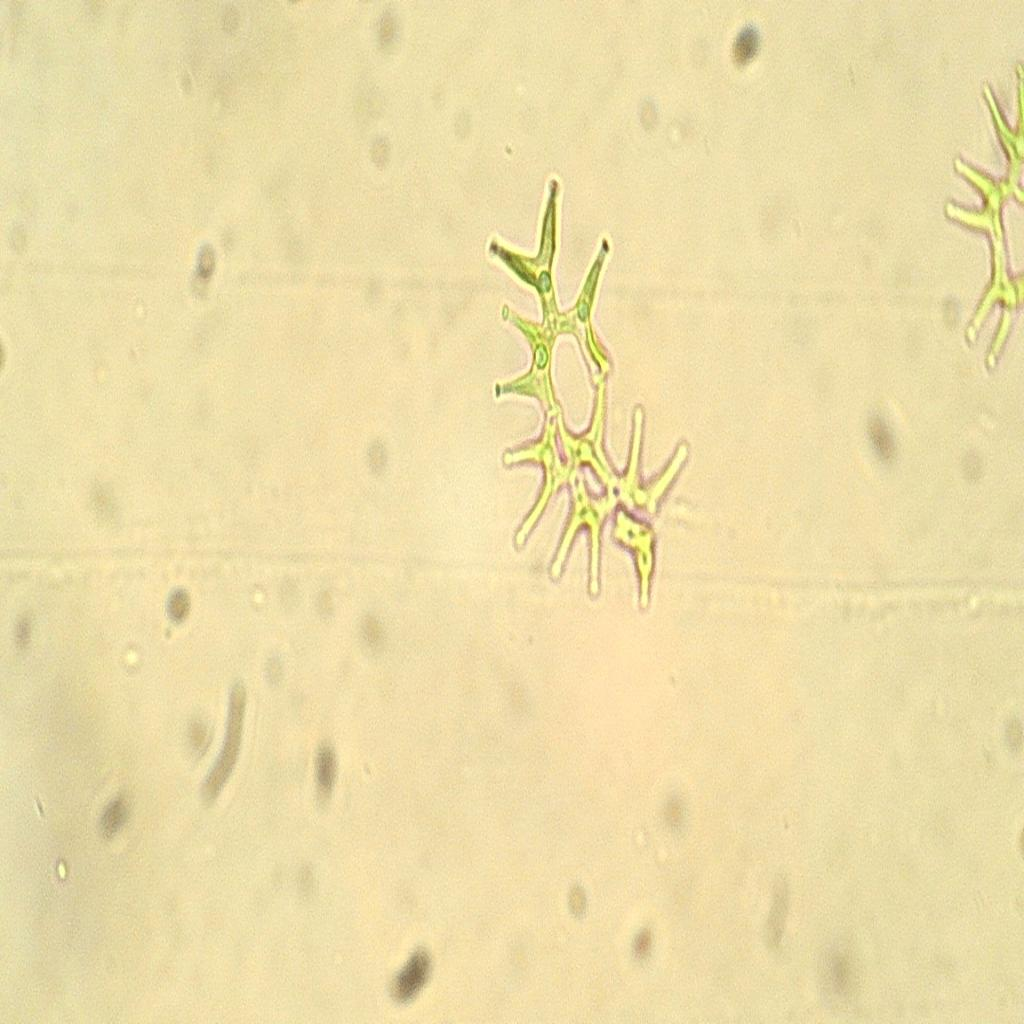Pediastrum_1TH: (452, 153, 707, 663)
